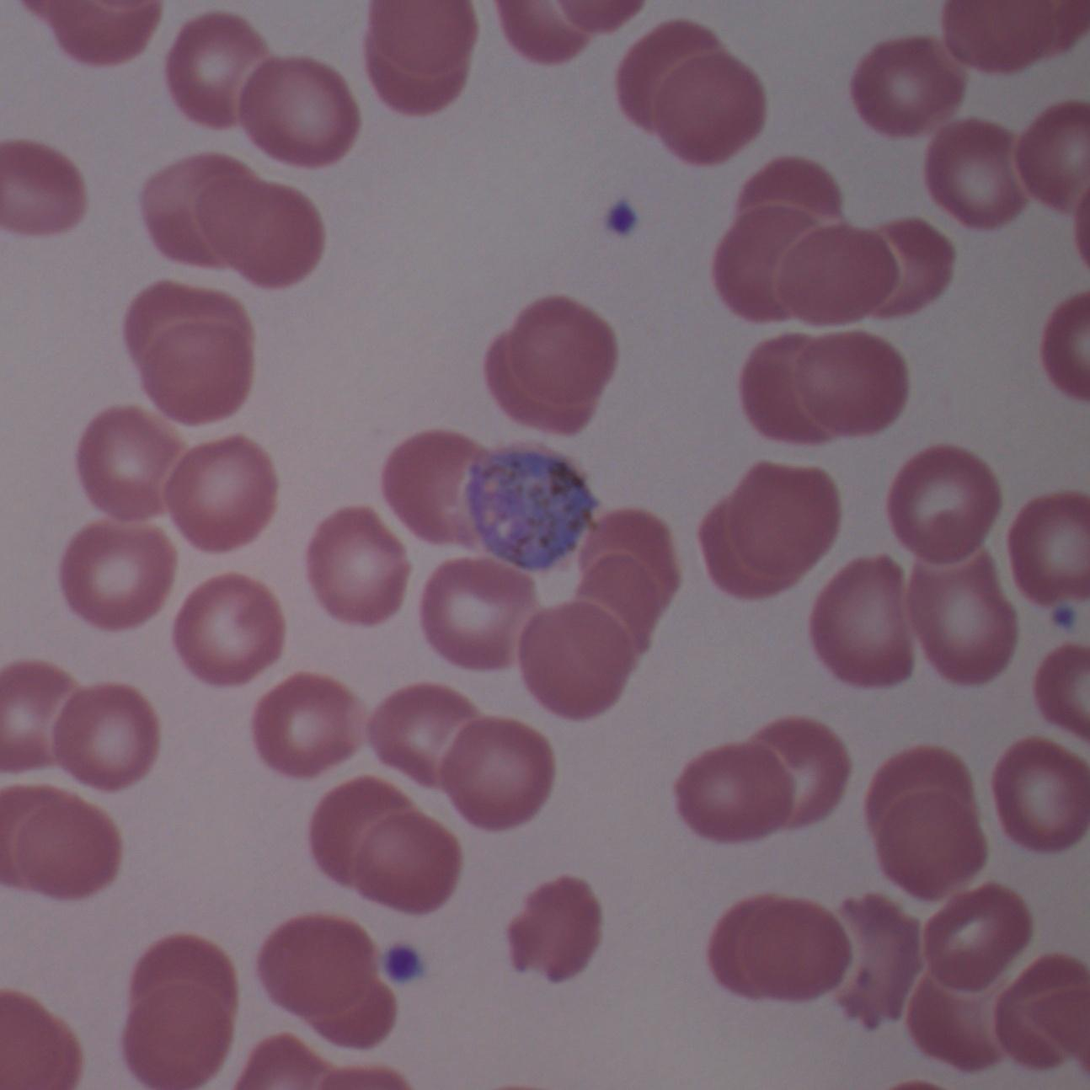Infected: (465, 436, 603, 573)
Uninfected: (256, 912, 400, 1055), (122, 281, 260, 428), (696, 462, 842, 600), (124, 935, 241, 1089), (705, 891, 848, 1012), (918, 515, 1016, 688), (709, 197, 833, 326), (202, 172, 329, 290), (809, 557, 915, 693), (0, 783, 123, 900), (516, 599, 635, 719), (642, 45, 763, 162), (236, 51, 358, 167), (890, 447, 1005, 568), (161, 435, 278, 553), (364, 0, 481, 116), (831, 880, 923, 1027), (379, 427, 488, 551), (574, 508, 680, 634), (417, 557, 532, 671), (439, 715, 552, 830), (59, 519, 175, 631), (157, 9, 268, 126), (341, 808, 460, 917), (143, 150, 253, 266), (304, 505, 410, 625), (884, 779, 990, 897), (77, 406, 184, 522), (732, 153, 842, 265), (913, 953, 1015, 1073), (172, 574, 283, 684), (773, 220, 888, 325), (503, 293, 616, 399), (679, 742, 797, 843), (52, 683, 159, 793), (369, 681, 478, 788), (505, 874, 601, 995), (747, 720, 852, 830), (250, 672, 360, 777), (935, 880, 1035, 995), (305, 775, 410, 884), (994, 728, 1090, 845), (851, 34, 963, 134), (795, 338, 908, 433), (924, 120, 1025, 226), (1006, 489, 1090, 604), (866, 216, 955, 317), (0, 658, 78, 772), (0, 138, 88, 235)
